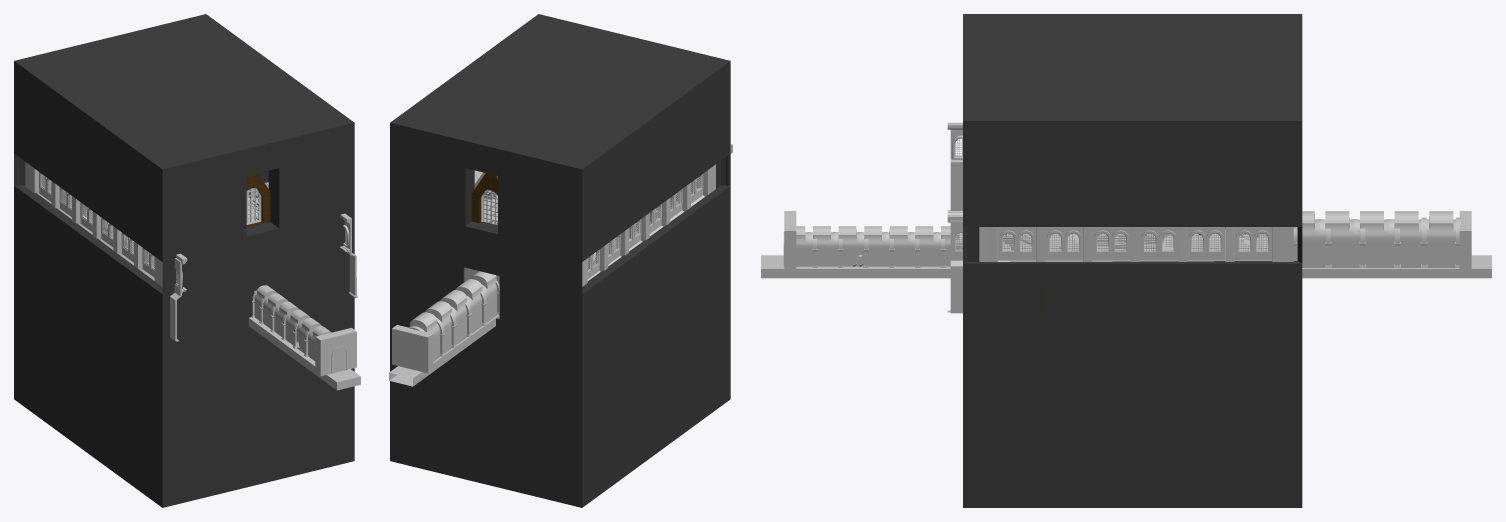
Rendered from Ludum_58_draft (2).fbx.
3 renders of one model, left to right at view 1: azimuth 30°, elevation 25°; view 2: azimuth 150°, elevation 25°; view 3: azimuth 270°, elevation 25°, orthographic. The views are drawn at different scales.
Visible parts, largest first — view 1: pCube515, polySurface343, polySurface354, pCube104 (×2), roof, window_02; view 2: pCube515, pCube525, polySurface353, roof, window_01; view 3: pCube515, pCube525, polySurface343, polySurface354, polySurface353, pCube104 (×2), polySurface338.
Part boxes in pixels (x1,y1,x2,y2): pCube515: [14, 14, 354, 507]; polySurface343: [251, 285, 356, 376]; polySurface354: [105, 221, 360, 390]; pCube104 (×2): [170, 220, 356, 341]; roof: [246, 173, 270, 227]; window_02: [246, 188, 261, 224]; pCube515: [390, 14, 730, 507]; pCube525: [392, 271, 499, 373]; polySurface353: [389, 314, 499, 386]; roof: [471, 170, 497, 222]; window_01: [481, 190, 497, 224]; pCube515: [963, 14, 1302, 507]; pCube525: [1293, 211, 1471, 272]; polySurface343: [783, 211, 962, 272]; polySurface354: [761, 229, 1267, 278]; polySurface353: [1302, 255, 1491, 278]; pCube104 (×2): [950, 129, 962, 313]; polySurface338: [979, 227, 1293, 261].
Size of the model in its own units: 5742 by 9640 by 16506.
